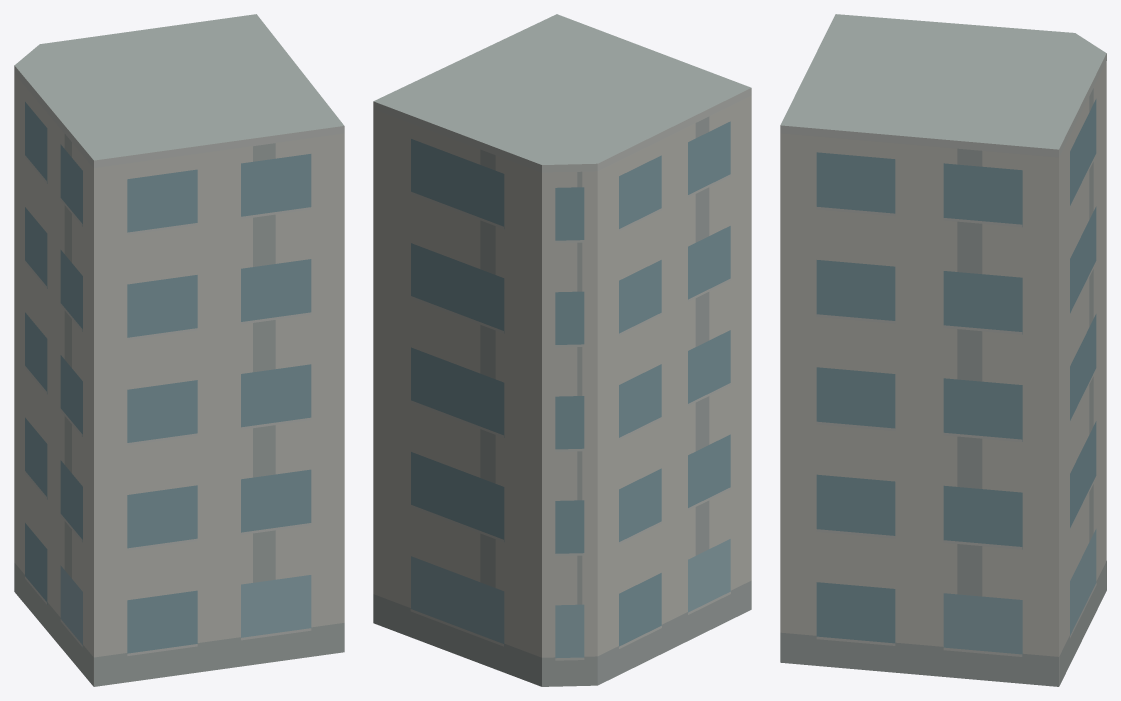
File: residential-2378c662-f8b5-4eb1-8807-fc11554450f6.glb
3 renders of one model, left to right at view 1: azimuth 30°, elevation 25°; view 2: azimuth 150°, elevation 25°; view 3: azimuth 270°, elevation 25°, orthographic. The views are drawn at different scales.
Visible parts, largest first — view 1: residential-2378c662-f8b5-4eb1-8807-fc11554450f6.tmp; view 2: residential-2378c662-f8b5-4eb1-8807-fc11554450f6.tmp; view 3: residential-2378c662-f8b5-4eb1-8807-fc11554450f6.tmp.
Boxes of the visible parts, x1,y1,x2,y2 form: residential-2378c662-f8b5-4eb1-8807-fc11554450f6.tmp: (14, 14, 344, 686); residential-2378c662-f8b5-4eb1-8807-fc11554450f6.tmp: (373, 14, 751, 686); residential-2378c662-f8b5-4eb1-8807-fc11554450f6.tmp: (780, 14, 1106, 686).
Size of the model in its own units: 8.99 by 16.6 by 9.15.
